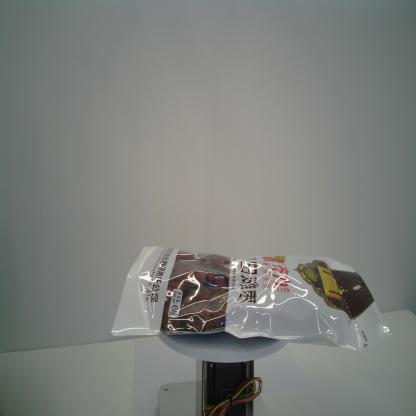Dried Food: (110, 242, 391, 354)
